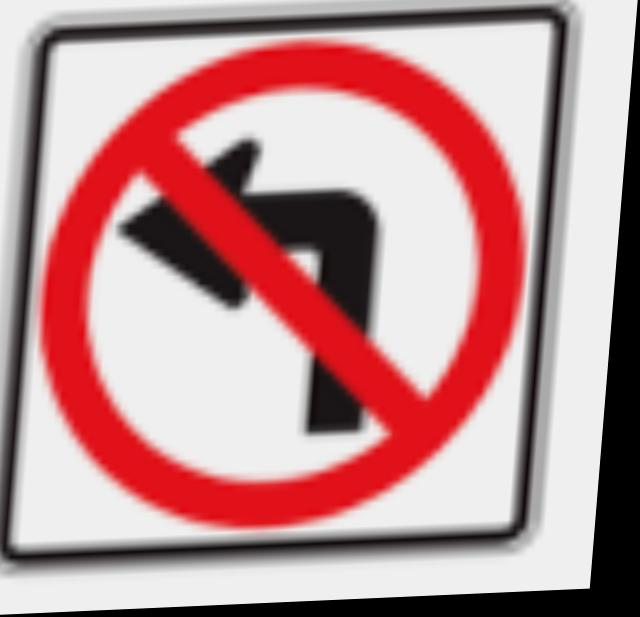not_turn_left: (26, 22, 555, 541)
